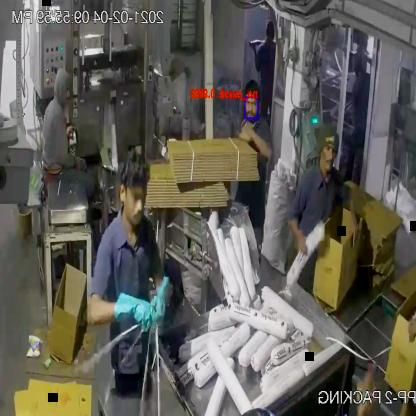glove: (108, 288, 156, 338), (149, 268, 171, 332)
no_glove: (341, 349, 394, 416), (342, 190, 364, 262), (234, 127, 274, 166), (287, 204, 308, 267), (401, 297, 416, 346)
